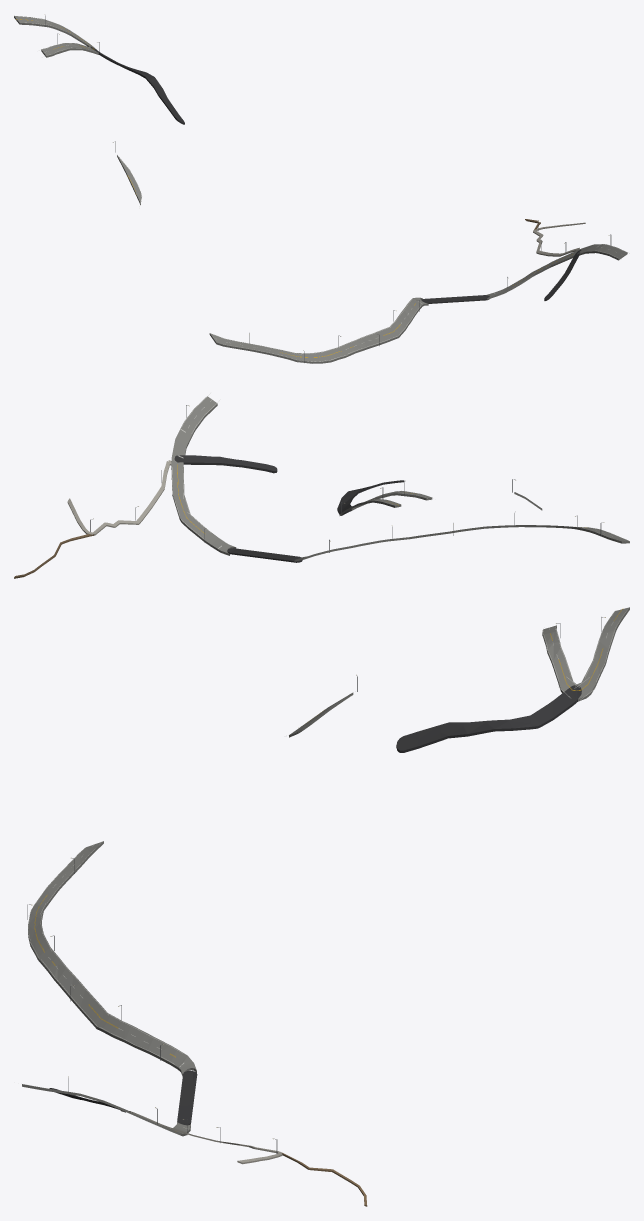
The model's file is 17-109489-59487.cabcd3fd.glb.
3 renders of one model, top to bottom at view 1: azimuth 30°, elevation 25°; view 2: azimuth 150°, elevation 25°; view 3: azimuth 270°, elevation 25°, orthographic. The views are drawn at different scales.
Size of the model in its own units: 296 by 159 by 273.
